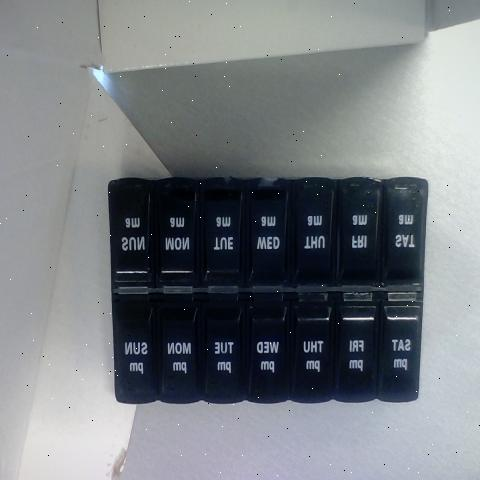FRI-am: (340, 181, 376, 276)
FRI-pm: (337, 292, 375, 400)
MON-am: (153, 182, 197, 286)
MON-pm: (159, 297, 197, 402)
SAT-am: (384, 185, 423, 282)
SAT-pm: (384, 298, 419, 403)
SUN-am: (112, 180, 146, 278)
SUN-pm: (115, 304, 154, 396)
THU-am: (293, 180, 334, 274)
THU-pm: (294, 291, 334, 399)
TUE-am: (203, 180, 243, 284)
TUE-pm: (202, 292, 245, 402)
WED-am: (250, 178, 291, 282)
WED-pm: (247, 297, 288, 402)
